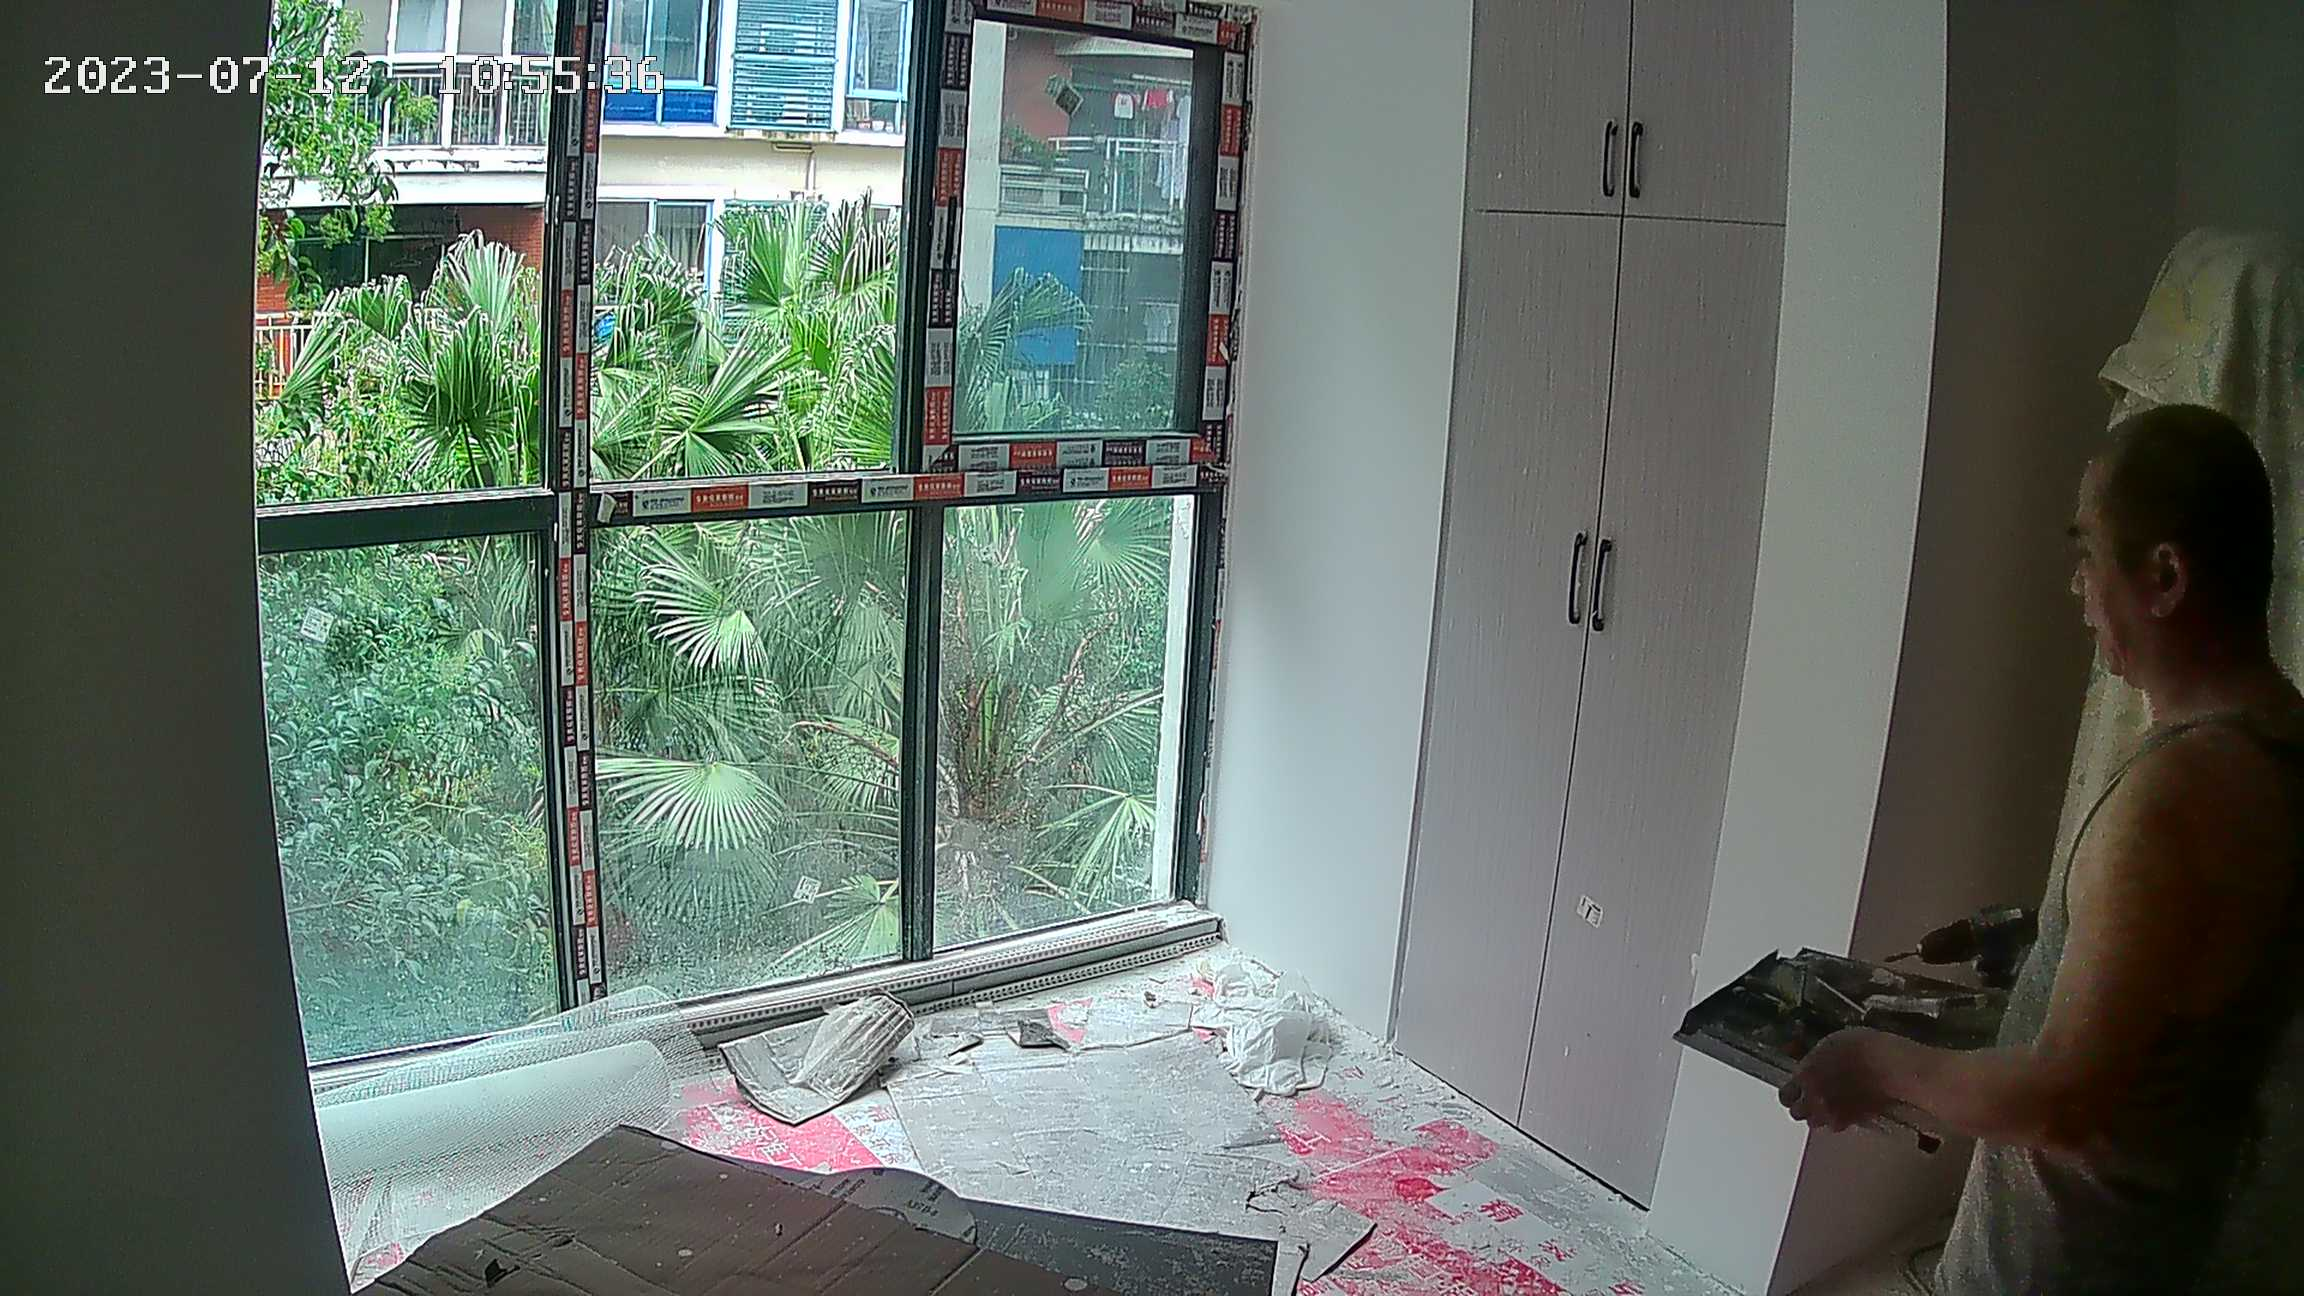people: (1763, 400, 2301, 1292)
window: (277, 1, 1239, 1049)
